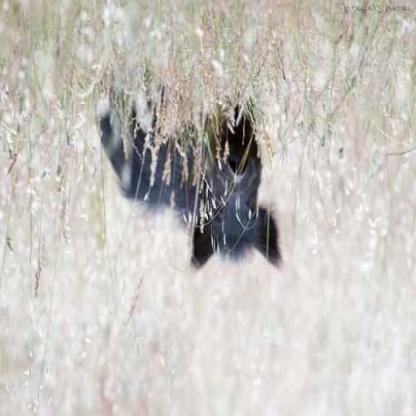boar: (71, 73, 290, 277)
